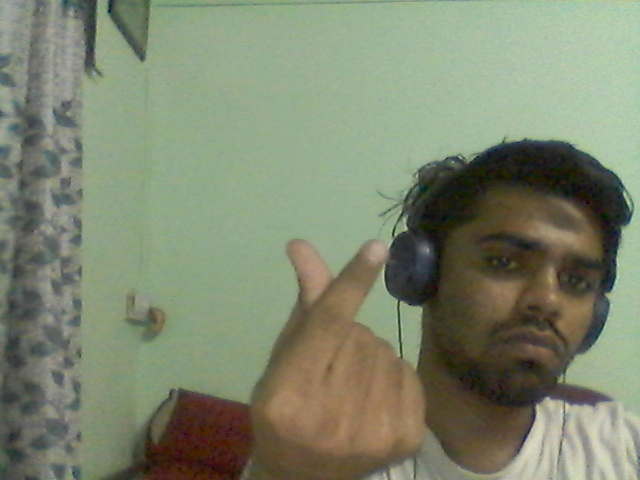I Love You: (228, 214, 443, 480)
